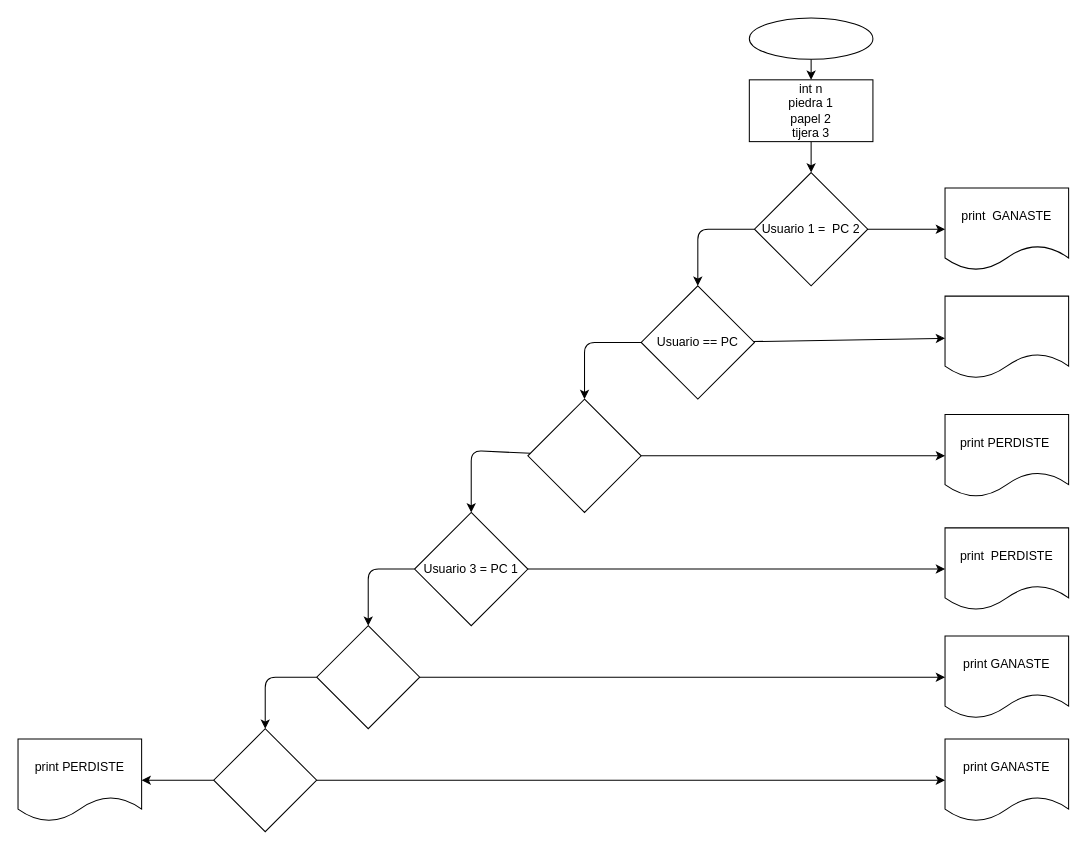
The diagram is 1087 pixels wide and 850 high, and some of its shapes have lost their labels. The centre of each missing label's shape, as x and y in pixels:
"INICIO" belongs at pixel 810 38.
"print EMPATE" belongs at pixel 1006 337.
"Usuario 2 = PC 1" belongs at pixel 368 677.
"Usuario 2 = PC 3" belongs at pixel 584 455.
"Usuario 3 = PC 2" belongs at pixel 265 780.
